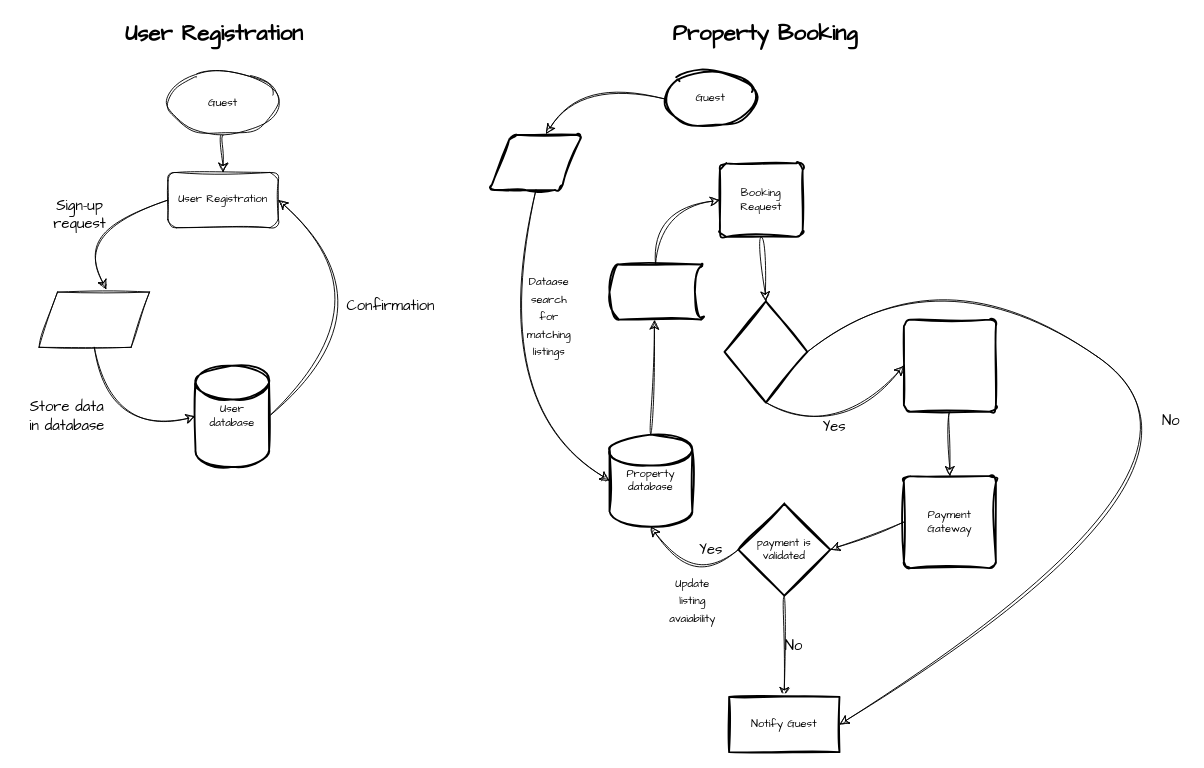
This 1204x768 diagram has some shape labels left out. The box of each missing label's shape, as (x1, y1, x2, y2) in pixels:
Booking is valid: (723, 300, 808, 403)
Listings matching search params: (608, 263, 702, 320)
Paymet request initiated: (903, 318, 996, 412)
Registration Details: (38, 291, 150, 347)
Search for Listings: (489, 133, 582, 190)
